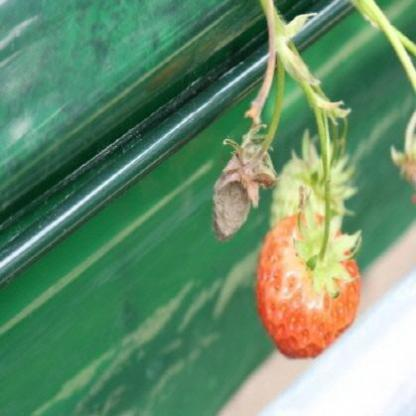Strawberry_Gray_Mold: (210, 123, 280, 242)
